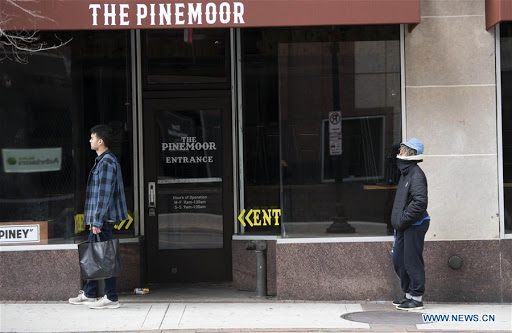Good: (68, 123, 431, 311)
